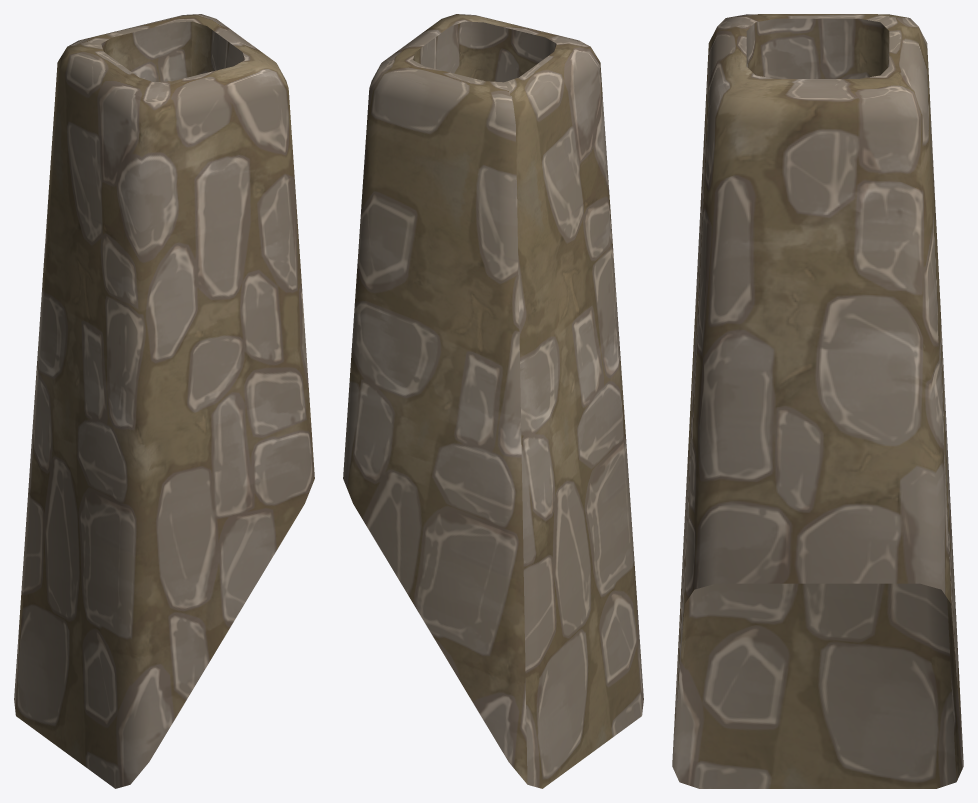
3 renders of one model, left to right at view 1: azimuth 30°, elevation 25°; view 2: azimuth 150°, elevation 25°; view 3: azimuth 270°, elevation 25°, orthographic. The views are drawn at different scales.
Parts seen in each view (by area): view 1: d227a3f78a179960cd821228cef496b8afbbb17208d9ceda0bf167fa9b43; view 2: d227a3f78a179960cd821228cef496b8afbbb17208d9ceda0bf167fa9b43; view 3: d227a3f78a179960cd821228cef496b8afbbb17208d9ceda0bf167fa9b43.
Part boxes in pixels (bbox=[...]): d227a3f78a179960cd821228cef496b8afbbb17208d9ceda0bf167fa9b43: bbox=[14, 14, 314, 788]; d227a3f78a179960cd821228cef496b8afbbb17208d9ceda0bf167fa9b43: bbox=[343, 14, 643, 788]; d227a3f78a179960cd821228cef496b8afbbb17208d9ceda0bf167fa9b43: bbox=[672, 14, 963, 788].
Size of the model in its own units: 0.9458 by 3 by 0.988.
Materials: 1 (1 with a texture image).
